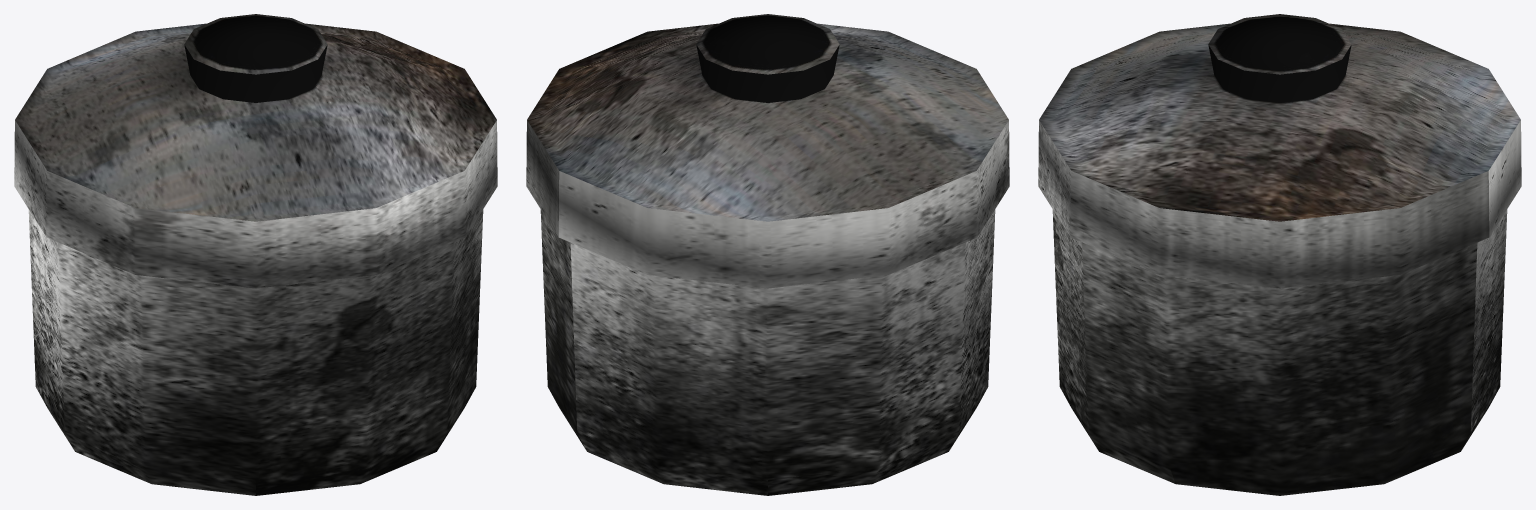
Rendered from Pot-Small.FBX.
3 views of the same model, side by side, from view 1: azimuth 30°, elevation 25°; view 2: azimuth 150°, elevation 25°; view 3: azimuth 270°, elevation 25° (orthographic).
Visible parts, largest first — view 1: Sphere001; view 2: Sphere001; view 3: Sphere001.
Part boxes in pixels (x1=…): Sphere001: x1=14, y1=14, x2=497, y2=495; Sphere001: x1=526, y1=14, x2=1009, y2=495; Sphere001: x1=1038, y1=14, x2=1521, y2=495.
Size of the model in its own units: 17.36 by 15.68 by 17.36.
Materials: 1 (1 with a texture image).
